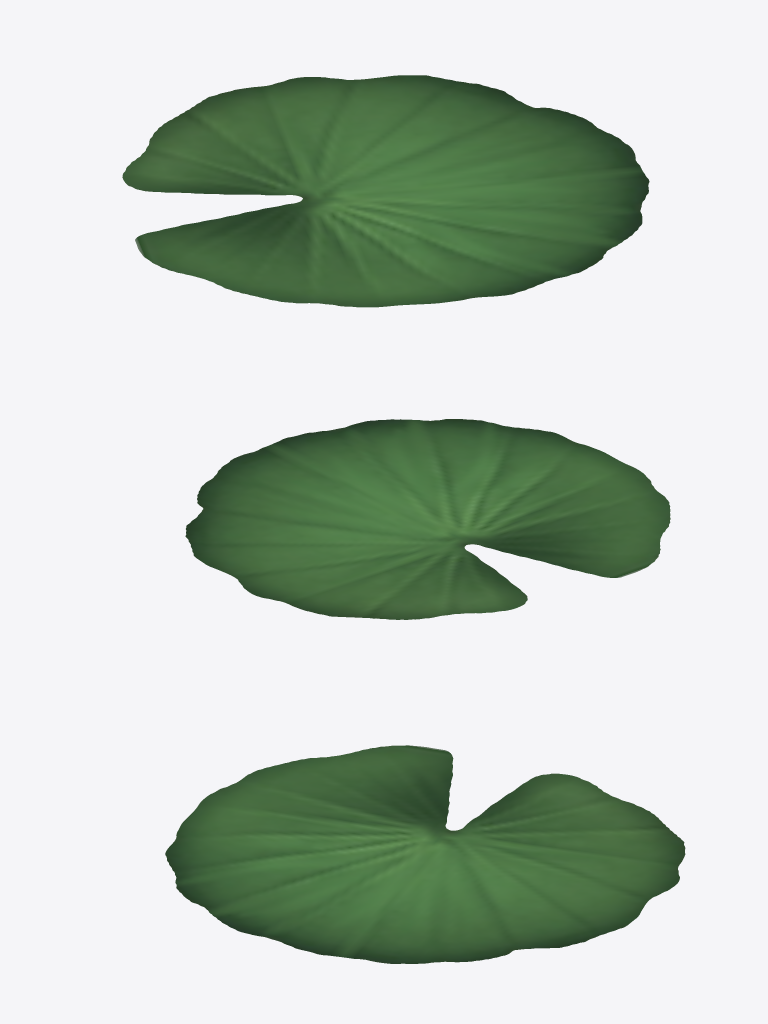
Rendered from SM_Water_Lily.fbx.
3 renders of one model, top to bottom at view 1: azimuth 30°, elevation 25°; view 2: azimuth 150°, elevation 25°; view 3: azimuth 270°, elevation 25°, orthographic. The views are drawn at different scales.
Parts seen in each view (by area): view 1: SM_Water_Lily; view 2: SM_Water_Lily; view 3: SM_Water_Lily.
Part boxes in pixels (box(x1,y1,x2,y2)): SM_Water_Lily: box(122, 75, 649, 307); SM_Water_Lily: box(185, 419, 670, 619); SM_Water_Lily: box(165, 745, 685, 963).
Bounding box in the file's own units: 19.96 × 20.33 × 0.1465.
Materials: 1 (1 with a texture image).
